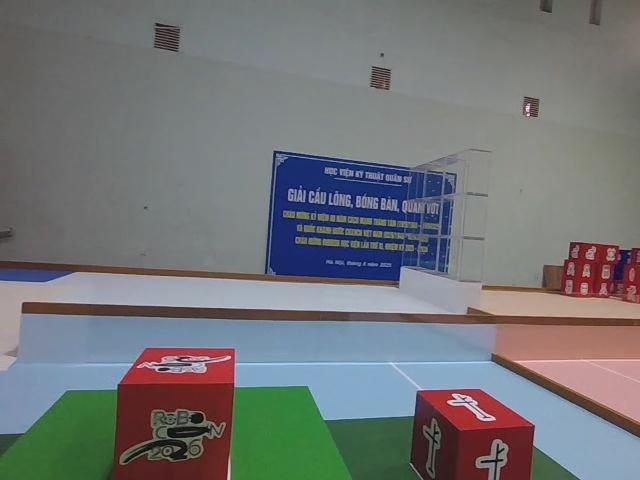R1: (111, 344, 238, 480)
R2 Real: (407, 385, 538, 480)
